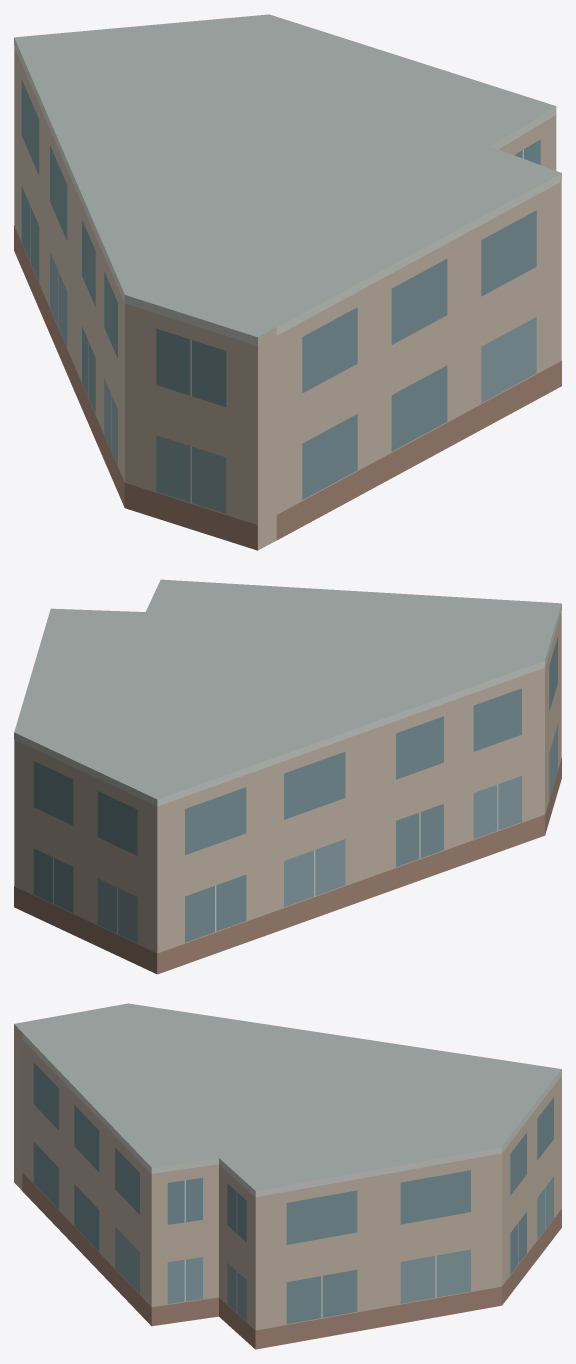
The model's file is survey-upis-32674532.glb.
The picture shows the model from 3 angles, top to bottom: view 1: azimuth 30°, elevation 25°; view 2: azimuth 150°, elevation 25°; view 3: azimuth 270°, elevation 25°; orthographic projection. The views are drawn at different scales.
Parts seen in each view (by area): view 1: survey-upis-32674532.tmp; view 2: survey-upis-32674532.tmp; view 3: survey-upis-32674532.tmp.
Boxes of the visible parts, x1,y1,x2,y2 form: survey-upis-32674532.tmp: [14, 14, 561, 550]; survey-upis-32674532.tmp: [14, 579, 561, 974]; survey-upis-32674532.tmp: [14, 1003, 561, 1349].
Bounding box in the file's own units: 15.49 × 6.1 × 19.11.
